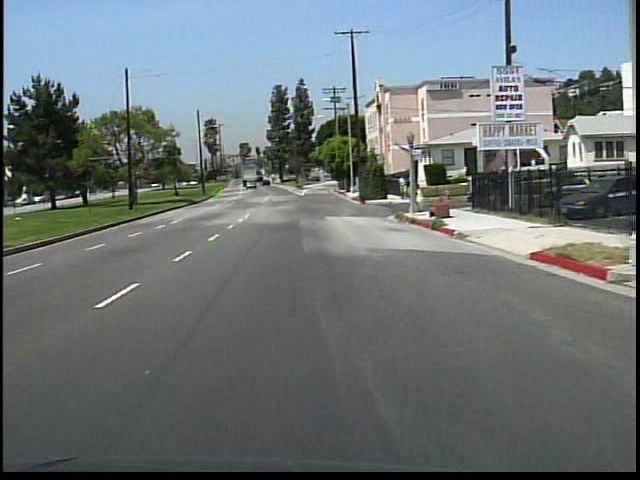person: (411, 180, 424, 215), (395, 174, 408, 199)
